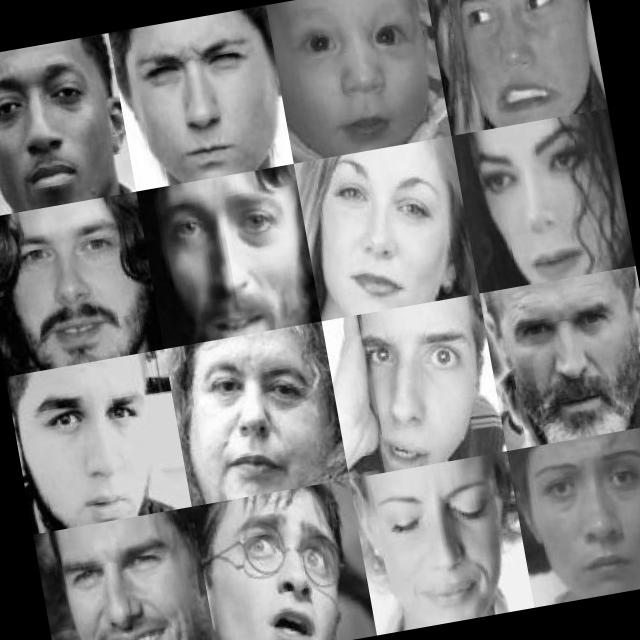angry: (124, 16, 278, 183), (0, 34, 129, 217), (498, 292, 640, 448), (445, 0, 596, 127)
fear: (345, 307, 490, 468), (206, 499, 349, 640)
happy: (145, 177, 314, 345), (312, 141, 460, 315), (49, 526, 200, 640)
neutral: (176, 328, 342, 499), (466, 124, 626, 296), (15, 374, 168, 532), (2, 217, 150, 371), (292, 1, 429, 156)
sad: (358, 452, 512, 634), (517, 438, 640, 606)
